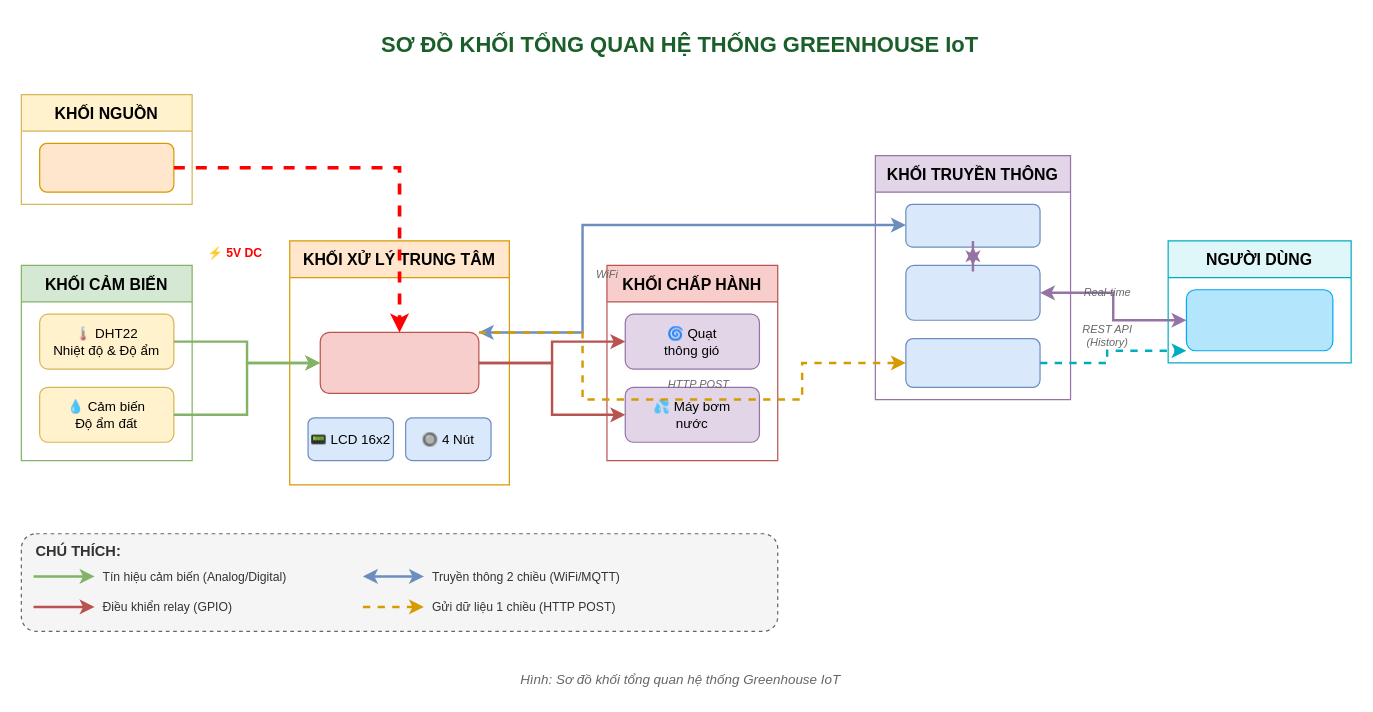
The diagram is 1373 pixels wide and 712 high, and some of its shapes have lost their labels. Here are the shapes that lost their labels. From the top down, the centre of each, then its label:
At (106,167): "⚡ Adapter 5V/2A".
At (972,225): "📡 WiFi".
At (972,292): "📨 MQTT Broker".
At (1259,320): "📱 Mobile App (React Native)".
At (399,362): "🔧 ESP32 Vi điều khiển".
At (972,362): "🌐 Web Server (PHP)".
